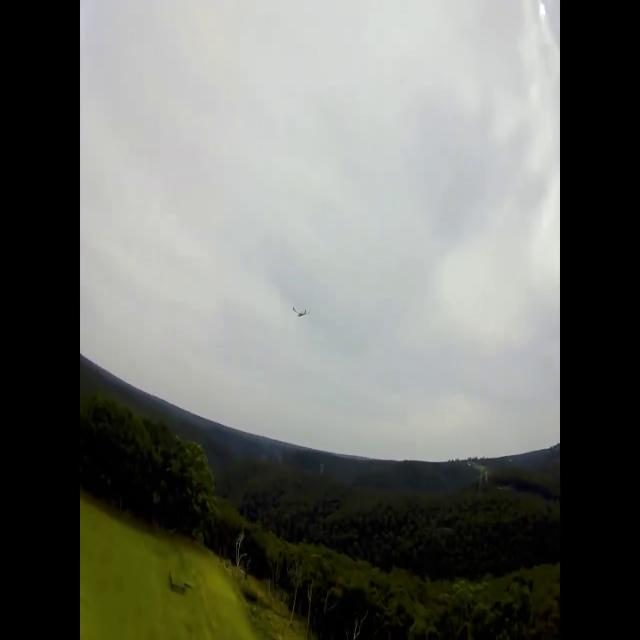iha: (291, 307, 310, 320)
